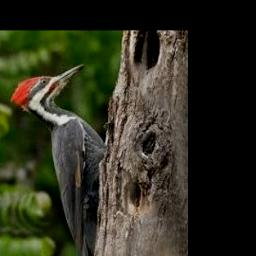Woodpecker: (11, 64, 107, 256)
